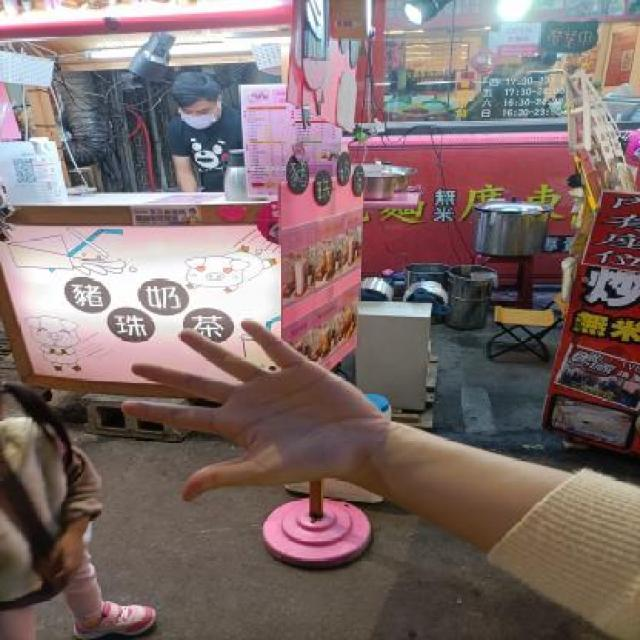Hand: (122, 318, 430, 504)
